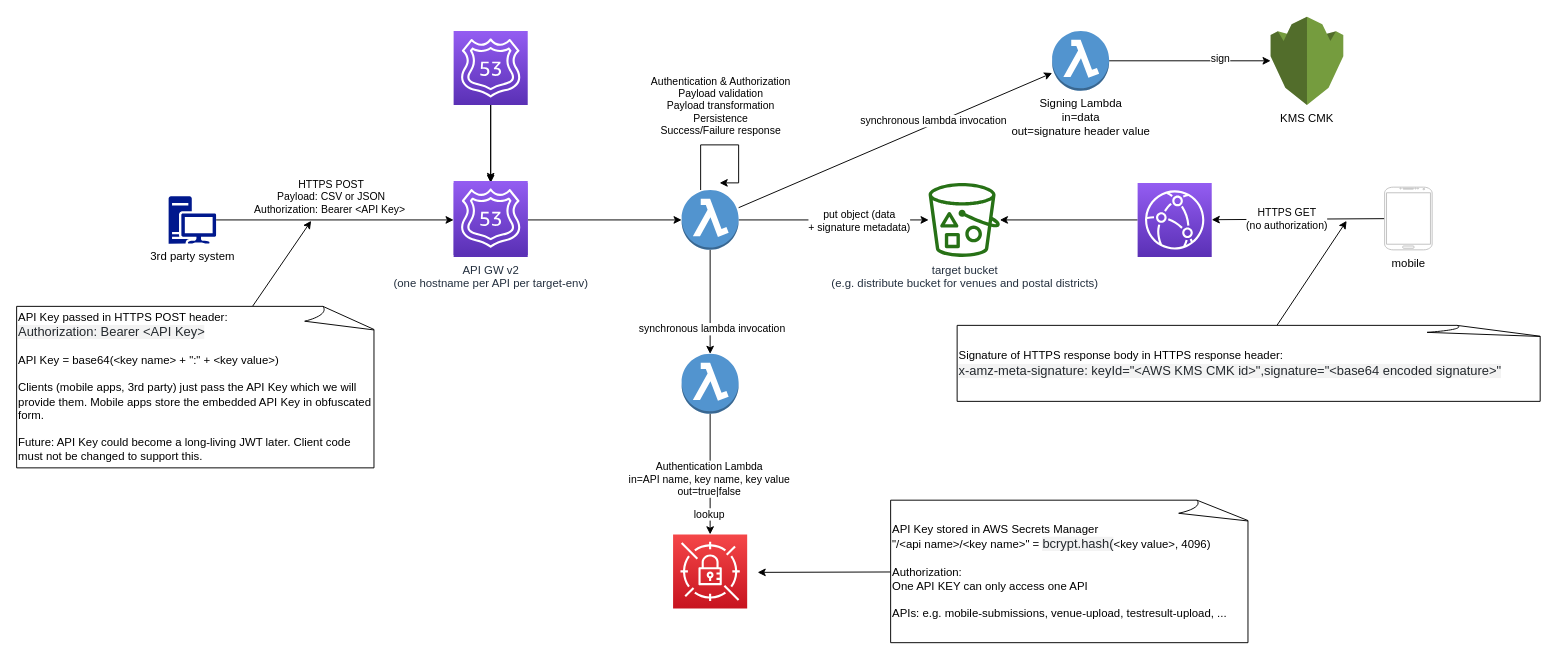
This 1563x659 diagram has some shape labels left out. The shapes that lost their labels are listed below. From the top down, each one's centre as x and y in pixels, then its label:
At [490,67]: "DNS Record (alias)".
At [710,219]: "Upload Lambda (API)".
At [1174,219]: "CloudFront distribution".
At [709,570]: "Secrets Manager".
